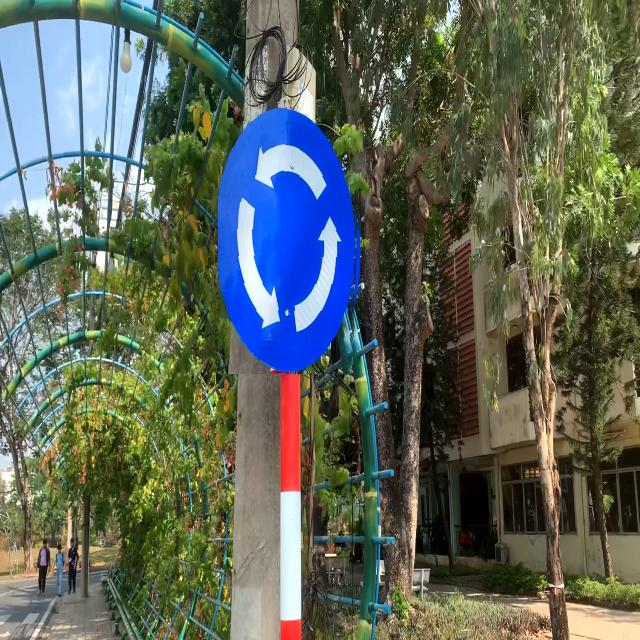Nơi giao nhau chạy theo vòng xuyến: (218, 107, 362, 374)
